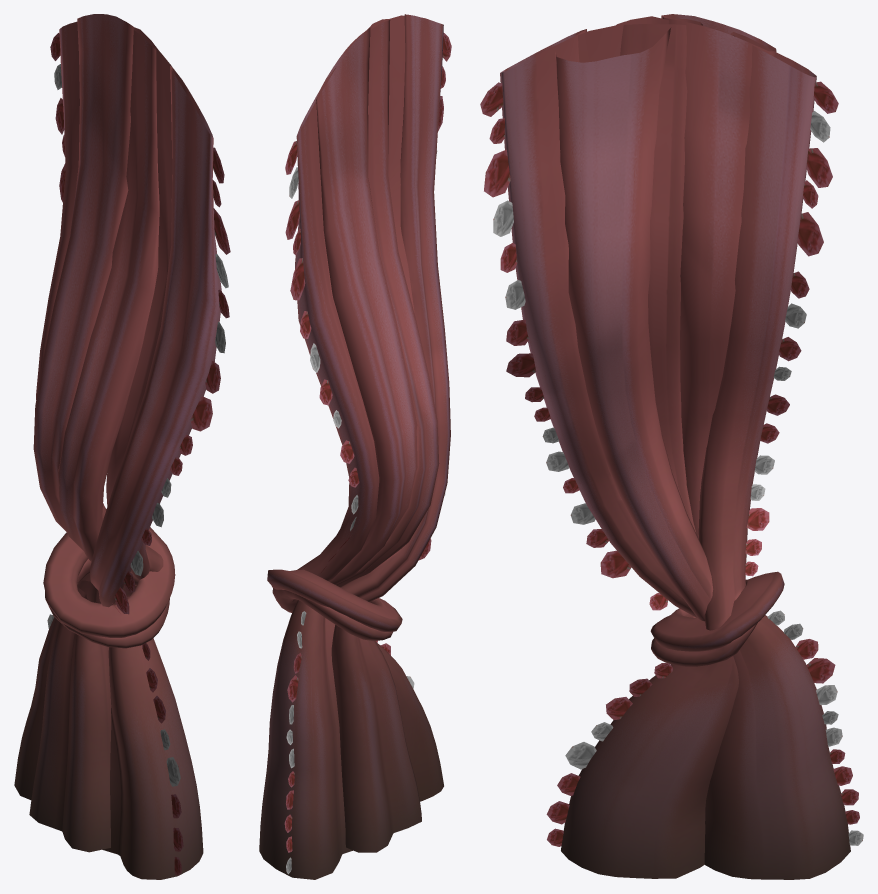
File: SM_Curtain_01.fbx
3 renders of one model, left to right at view 1: azimuth 30°, elevation 25°; view 2: azimuth 150°, elevation 25°; view 3: azimuth 270°, elevation 25°, orthographic. The views are drawn at different scales.
Visible parts, largest first — view 1: SM_Curtain_01_LOD0; view 2: SM_Curtain_01_LOD0; view 3: SM_Curtain_01_LOD0.
Boxes of the visible parts, x1,y1,x2,y2 form: SM_Curtain_01_LOD0: (14,14,230,879); SM_Curtain_01_LOD0: (259,14,451,879); SM_Curtain_01_LOD0: (480,14,863,879).
Size of the model in its own units: 82.5 by 199 by 482.
